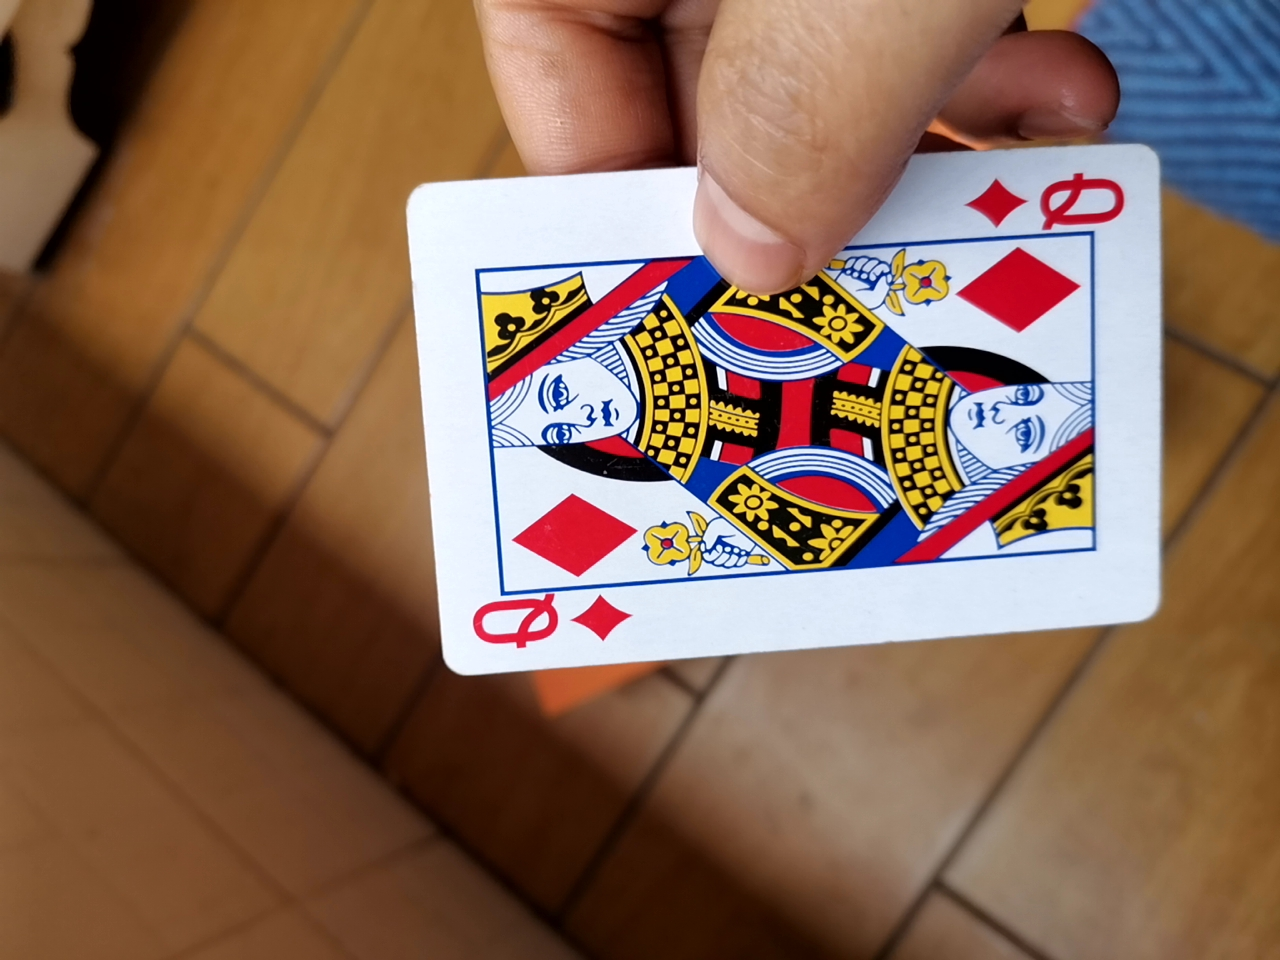fk q: (364, 151, 1149, 685)
